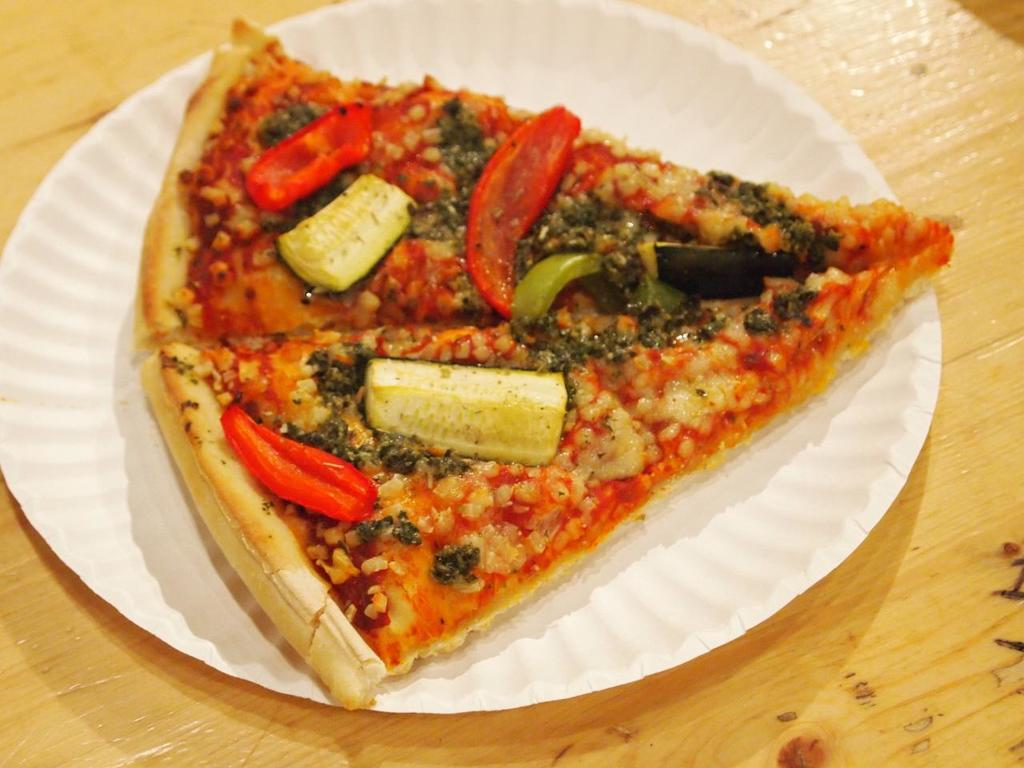Pizza: (128, 49, 920, 694)
